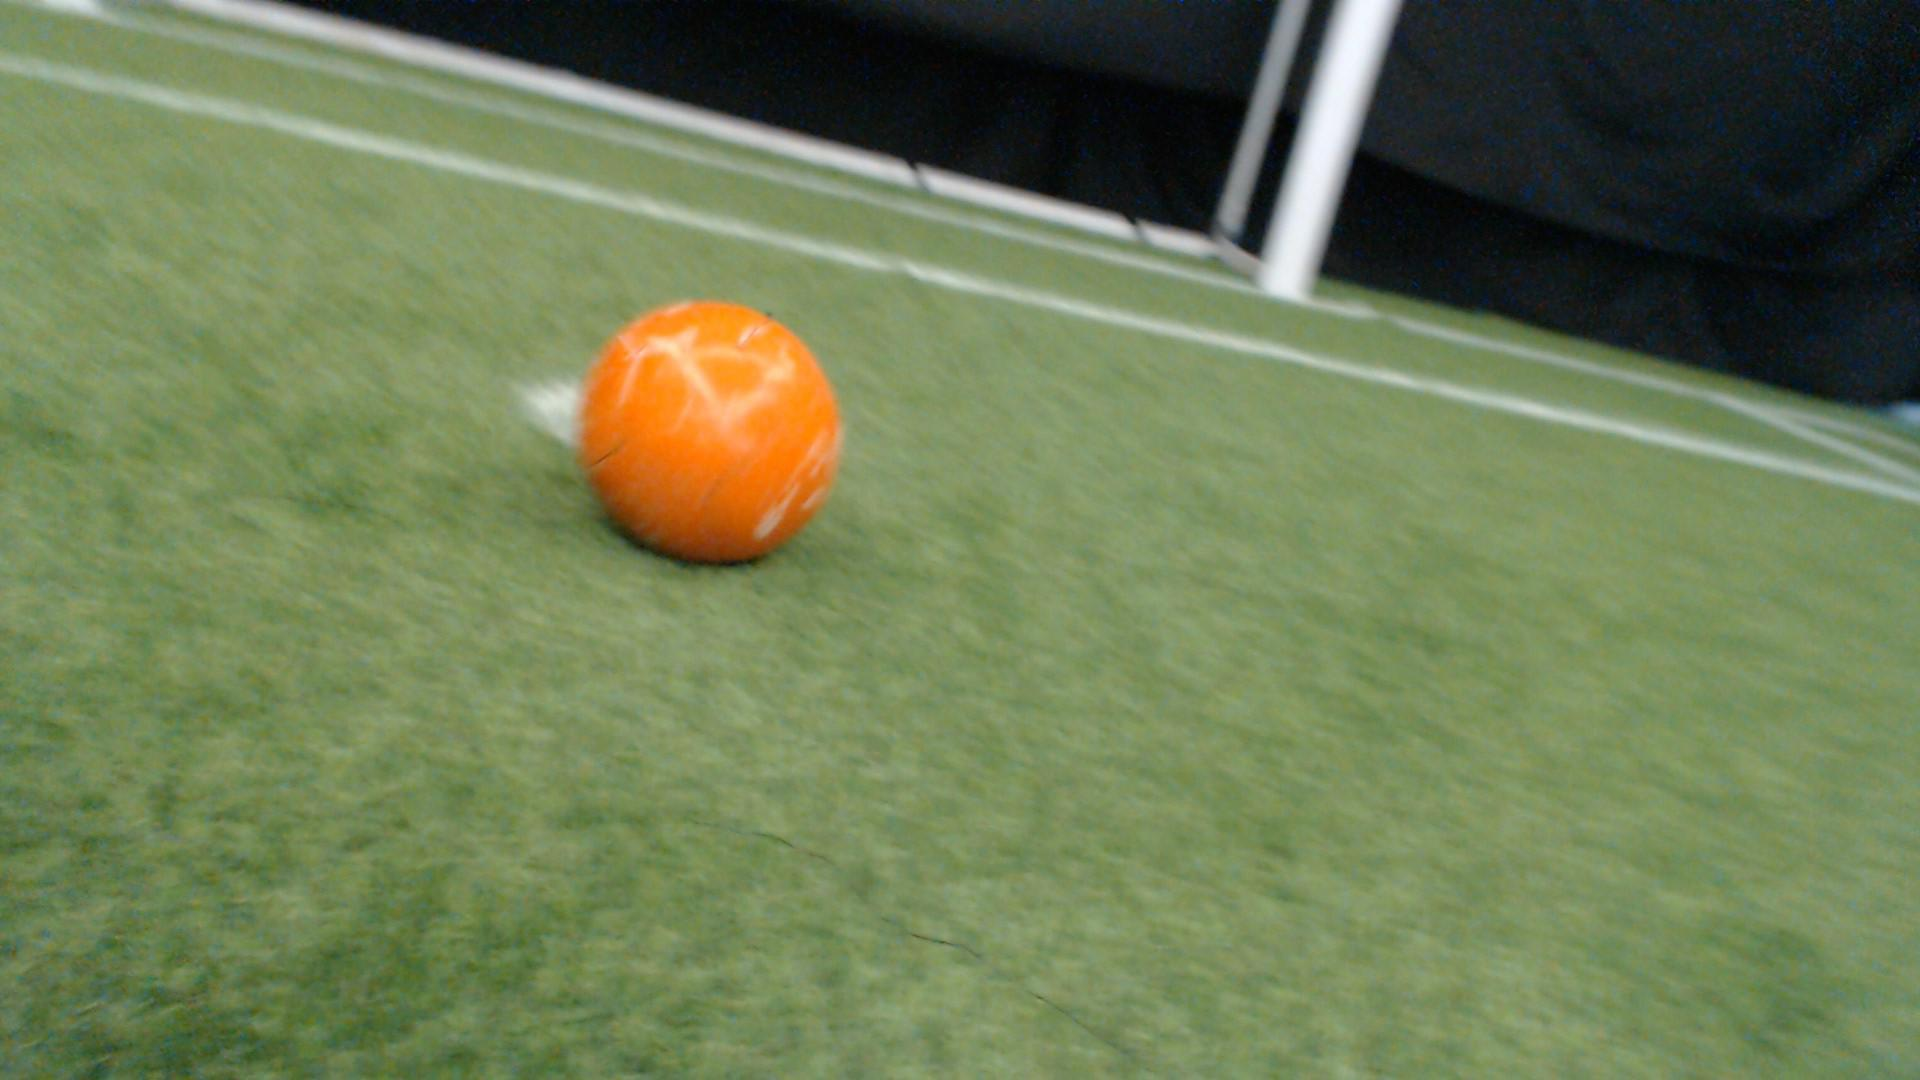bola: (558, 289, 874, 578)
